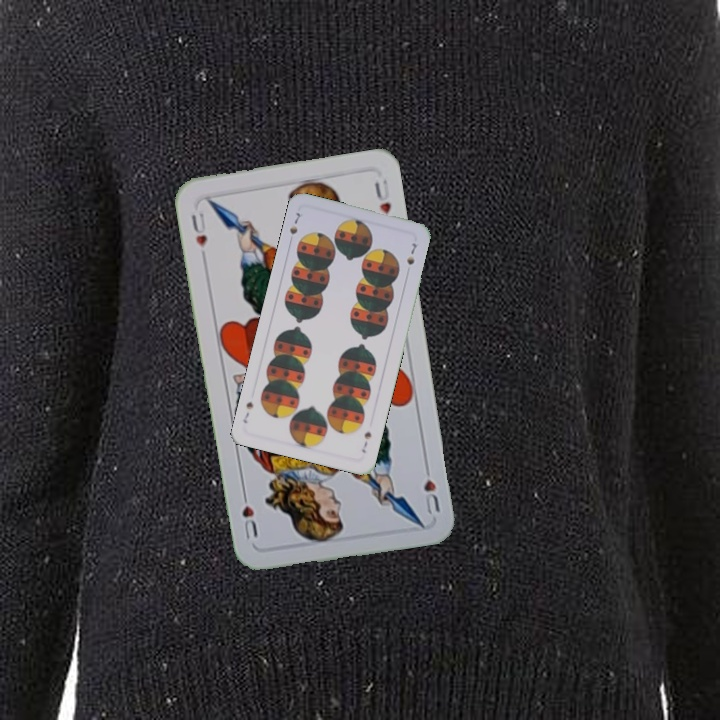HU: (419, 459, 443, 517), (187, 205, 210, 250)
S7: (285, 208, 305, 237), (358, 428, 374, 455)
